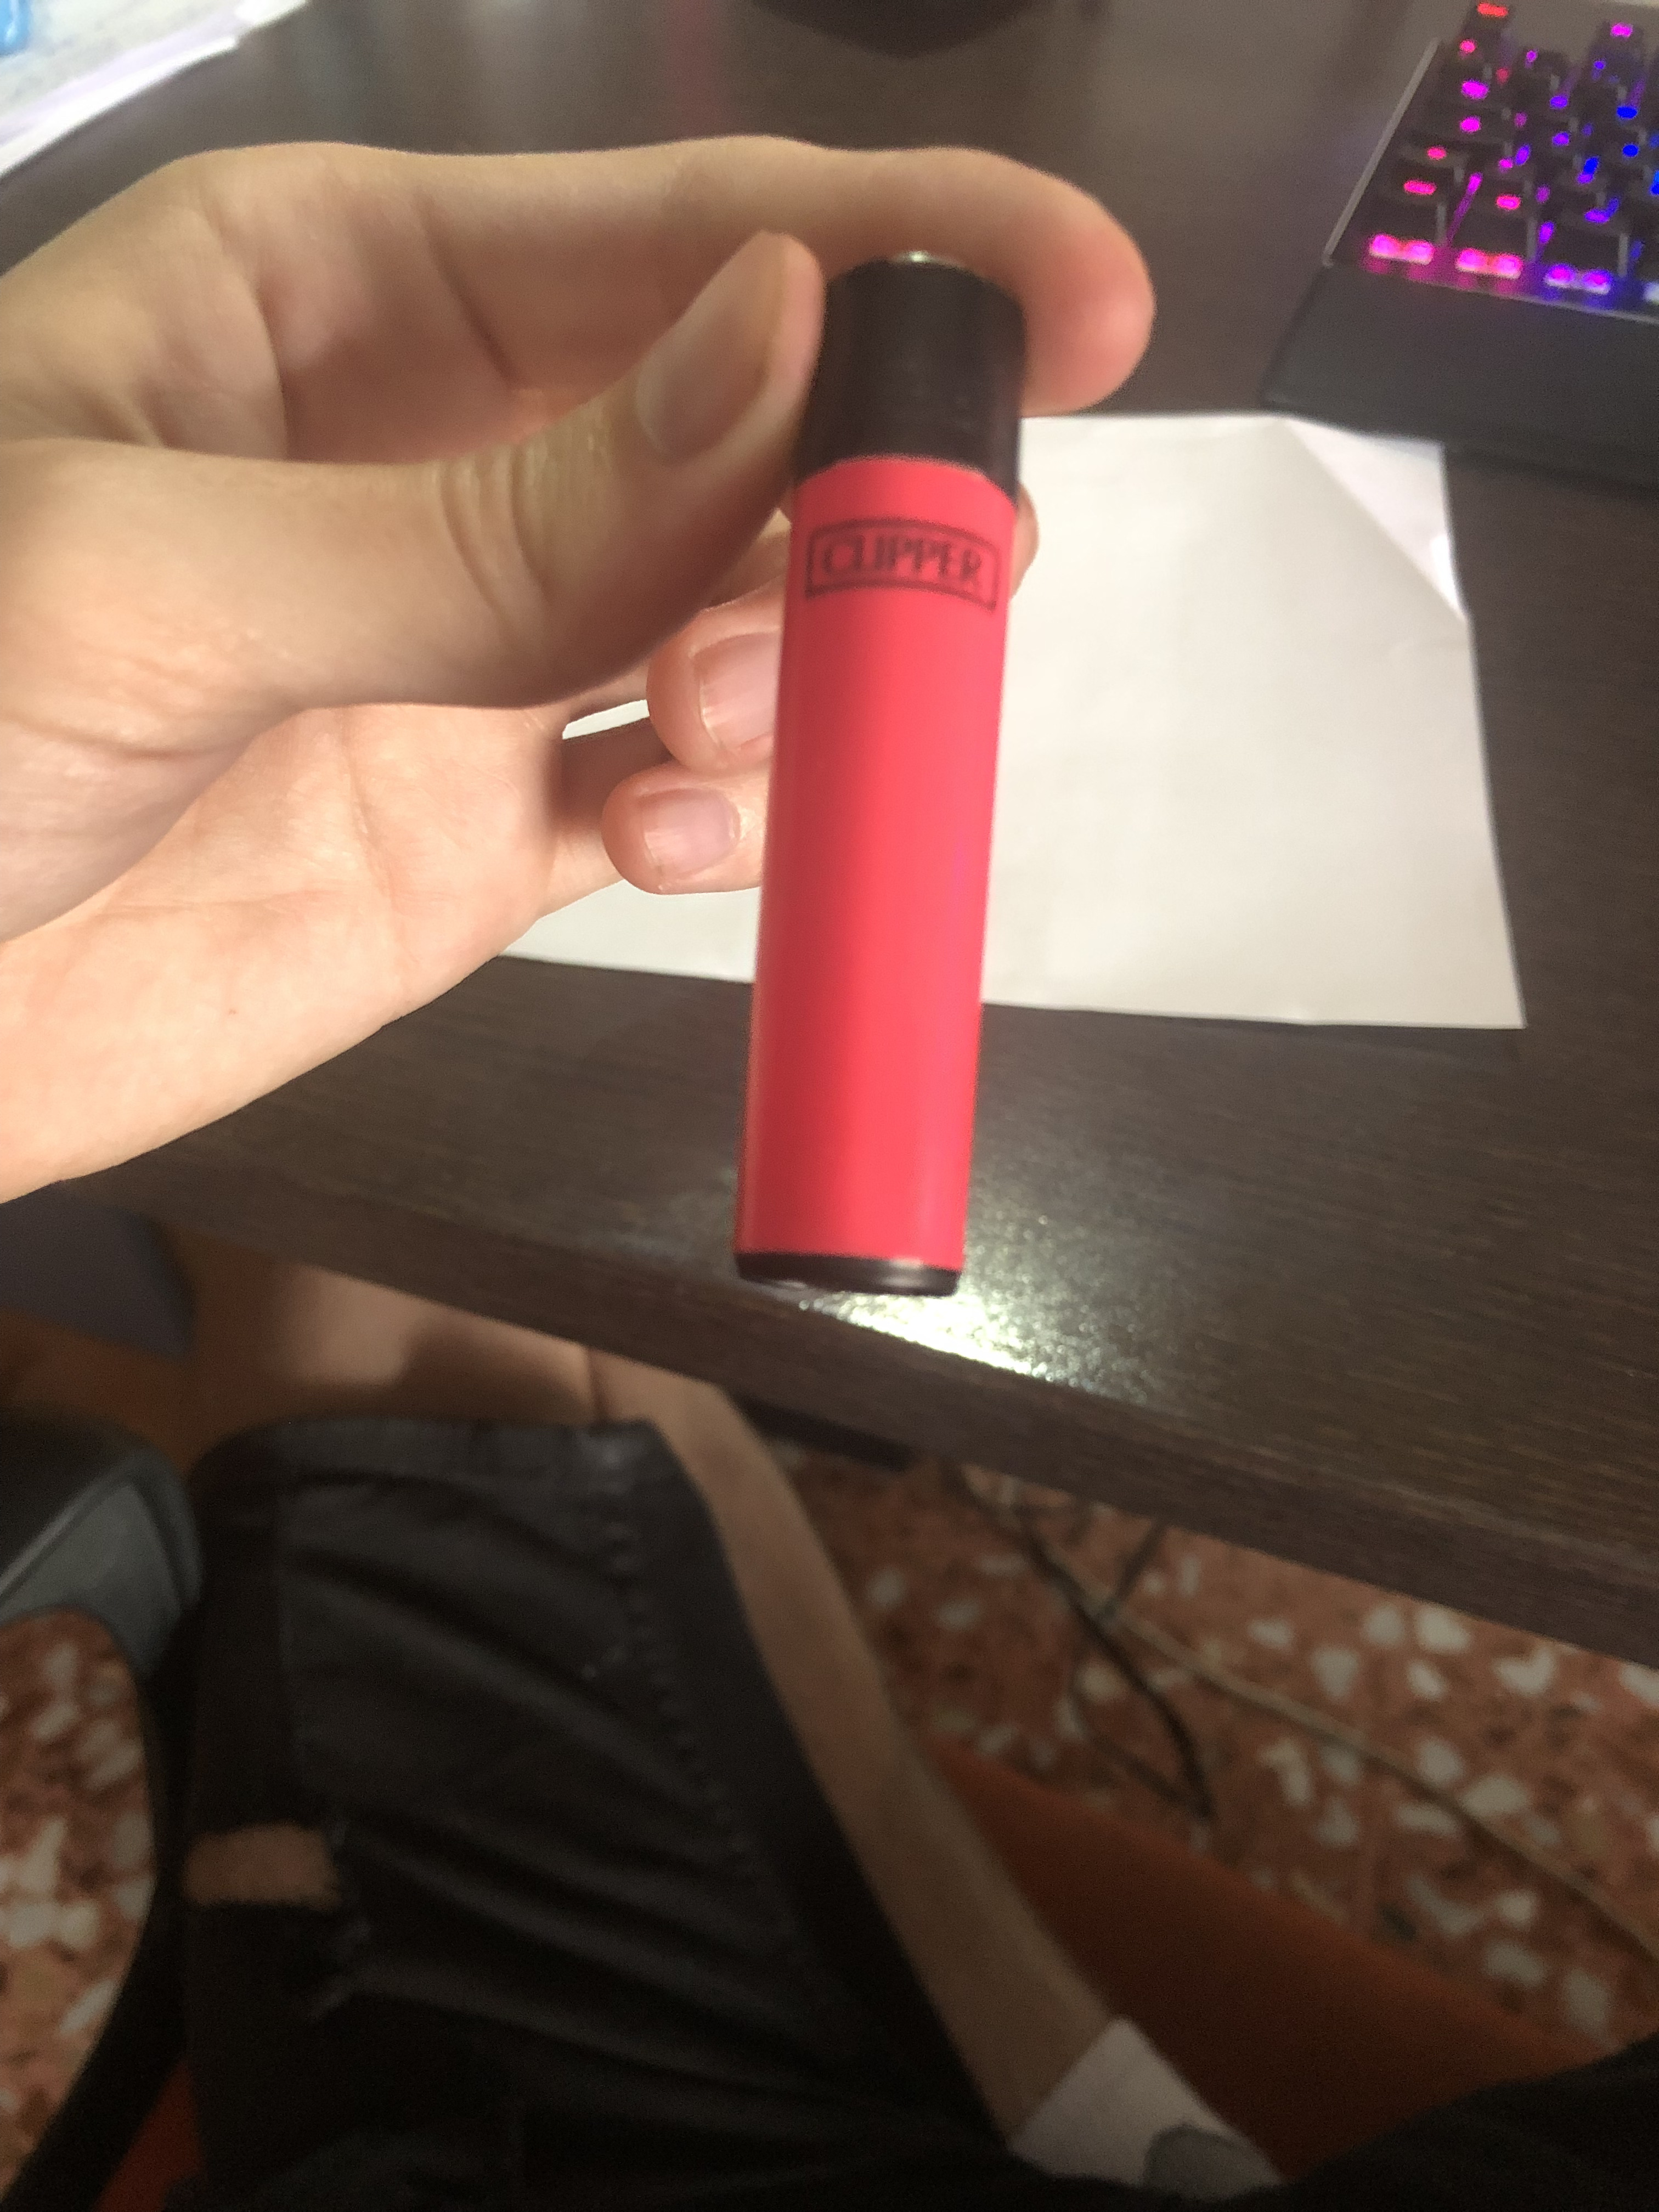Mechero: (720, 235, 1084, 1350)
